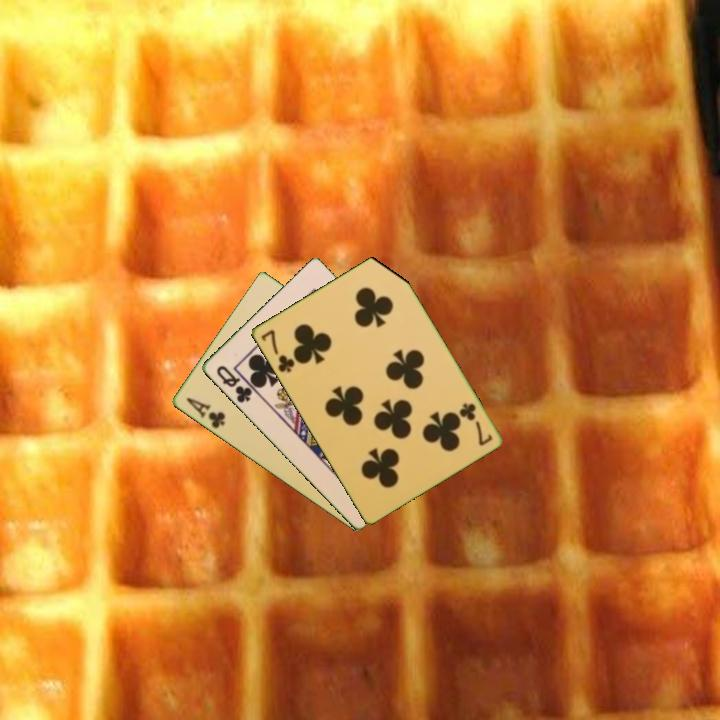7c: (257, 326, 297, 376), (455, 399, 495, 449)
Ac: (182, 394, 228, 432)
Qc: (212, 362, 255, 406)
